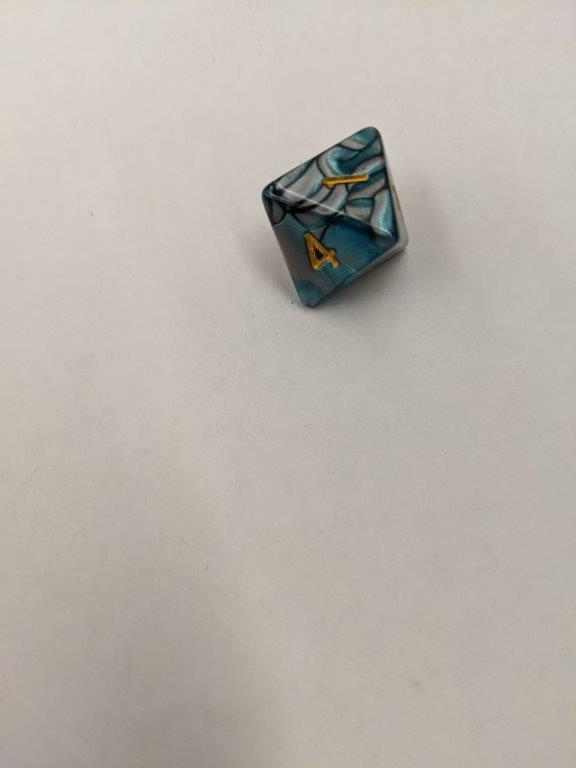d8-1: (260, 124, 411, 311)
